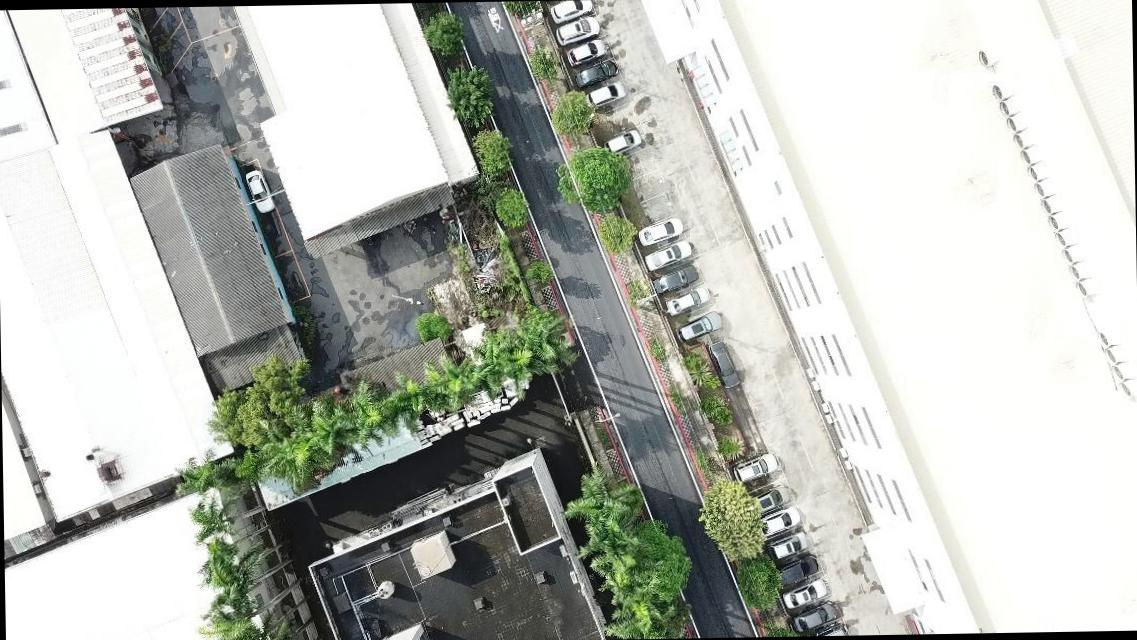vehicle: (730, 452, 778, 486), (674, 311, 723, 344), (244, 166, 275, 216), (790, 602, 838, 634), (554, 14, 600, 46), (646, 238, 692, 270), (710, 341, 740, 389), (652, 264, 699, 294), (664, 286, 710, 316), (774, 556, 820, 586), (782, 578, 828, 608), (748, 483, 792, 514), (759, 505, 800, 538), (636, 217, 682, 246), (572, 58, 616, 87), (766, 530, 807, 560), (583, 81, 626, 109), (568, 37, 608, 66), (604, 126, 642, 156), (548, 1, 594, 23)
